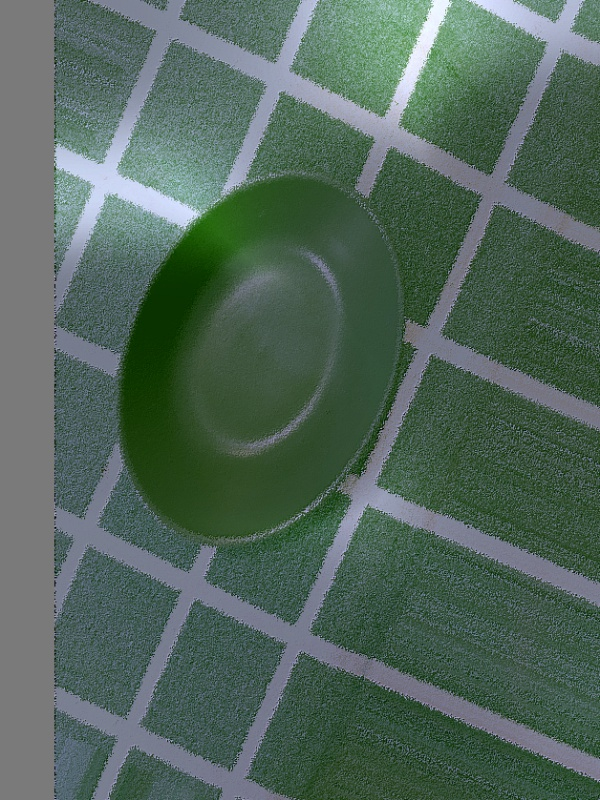bowl_big: (46, 112, 472, 619)
